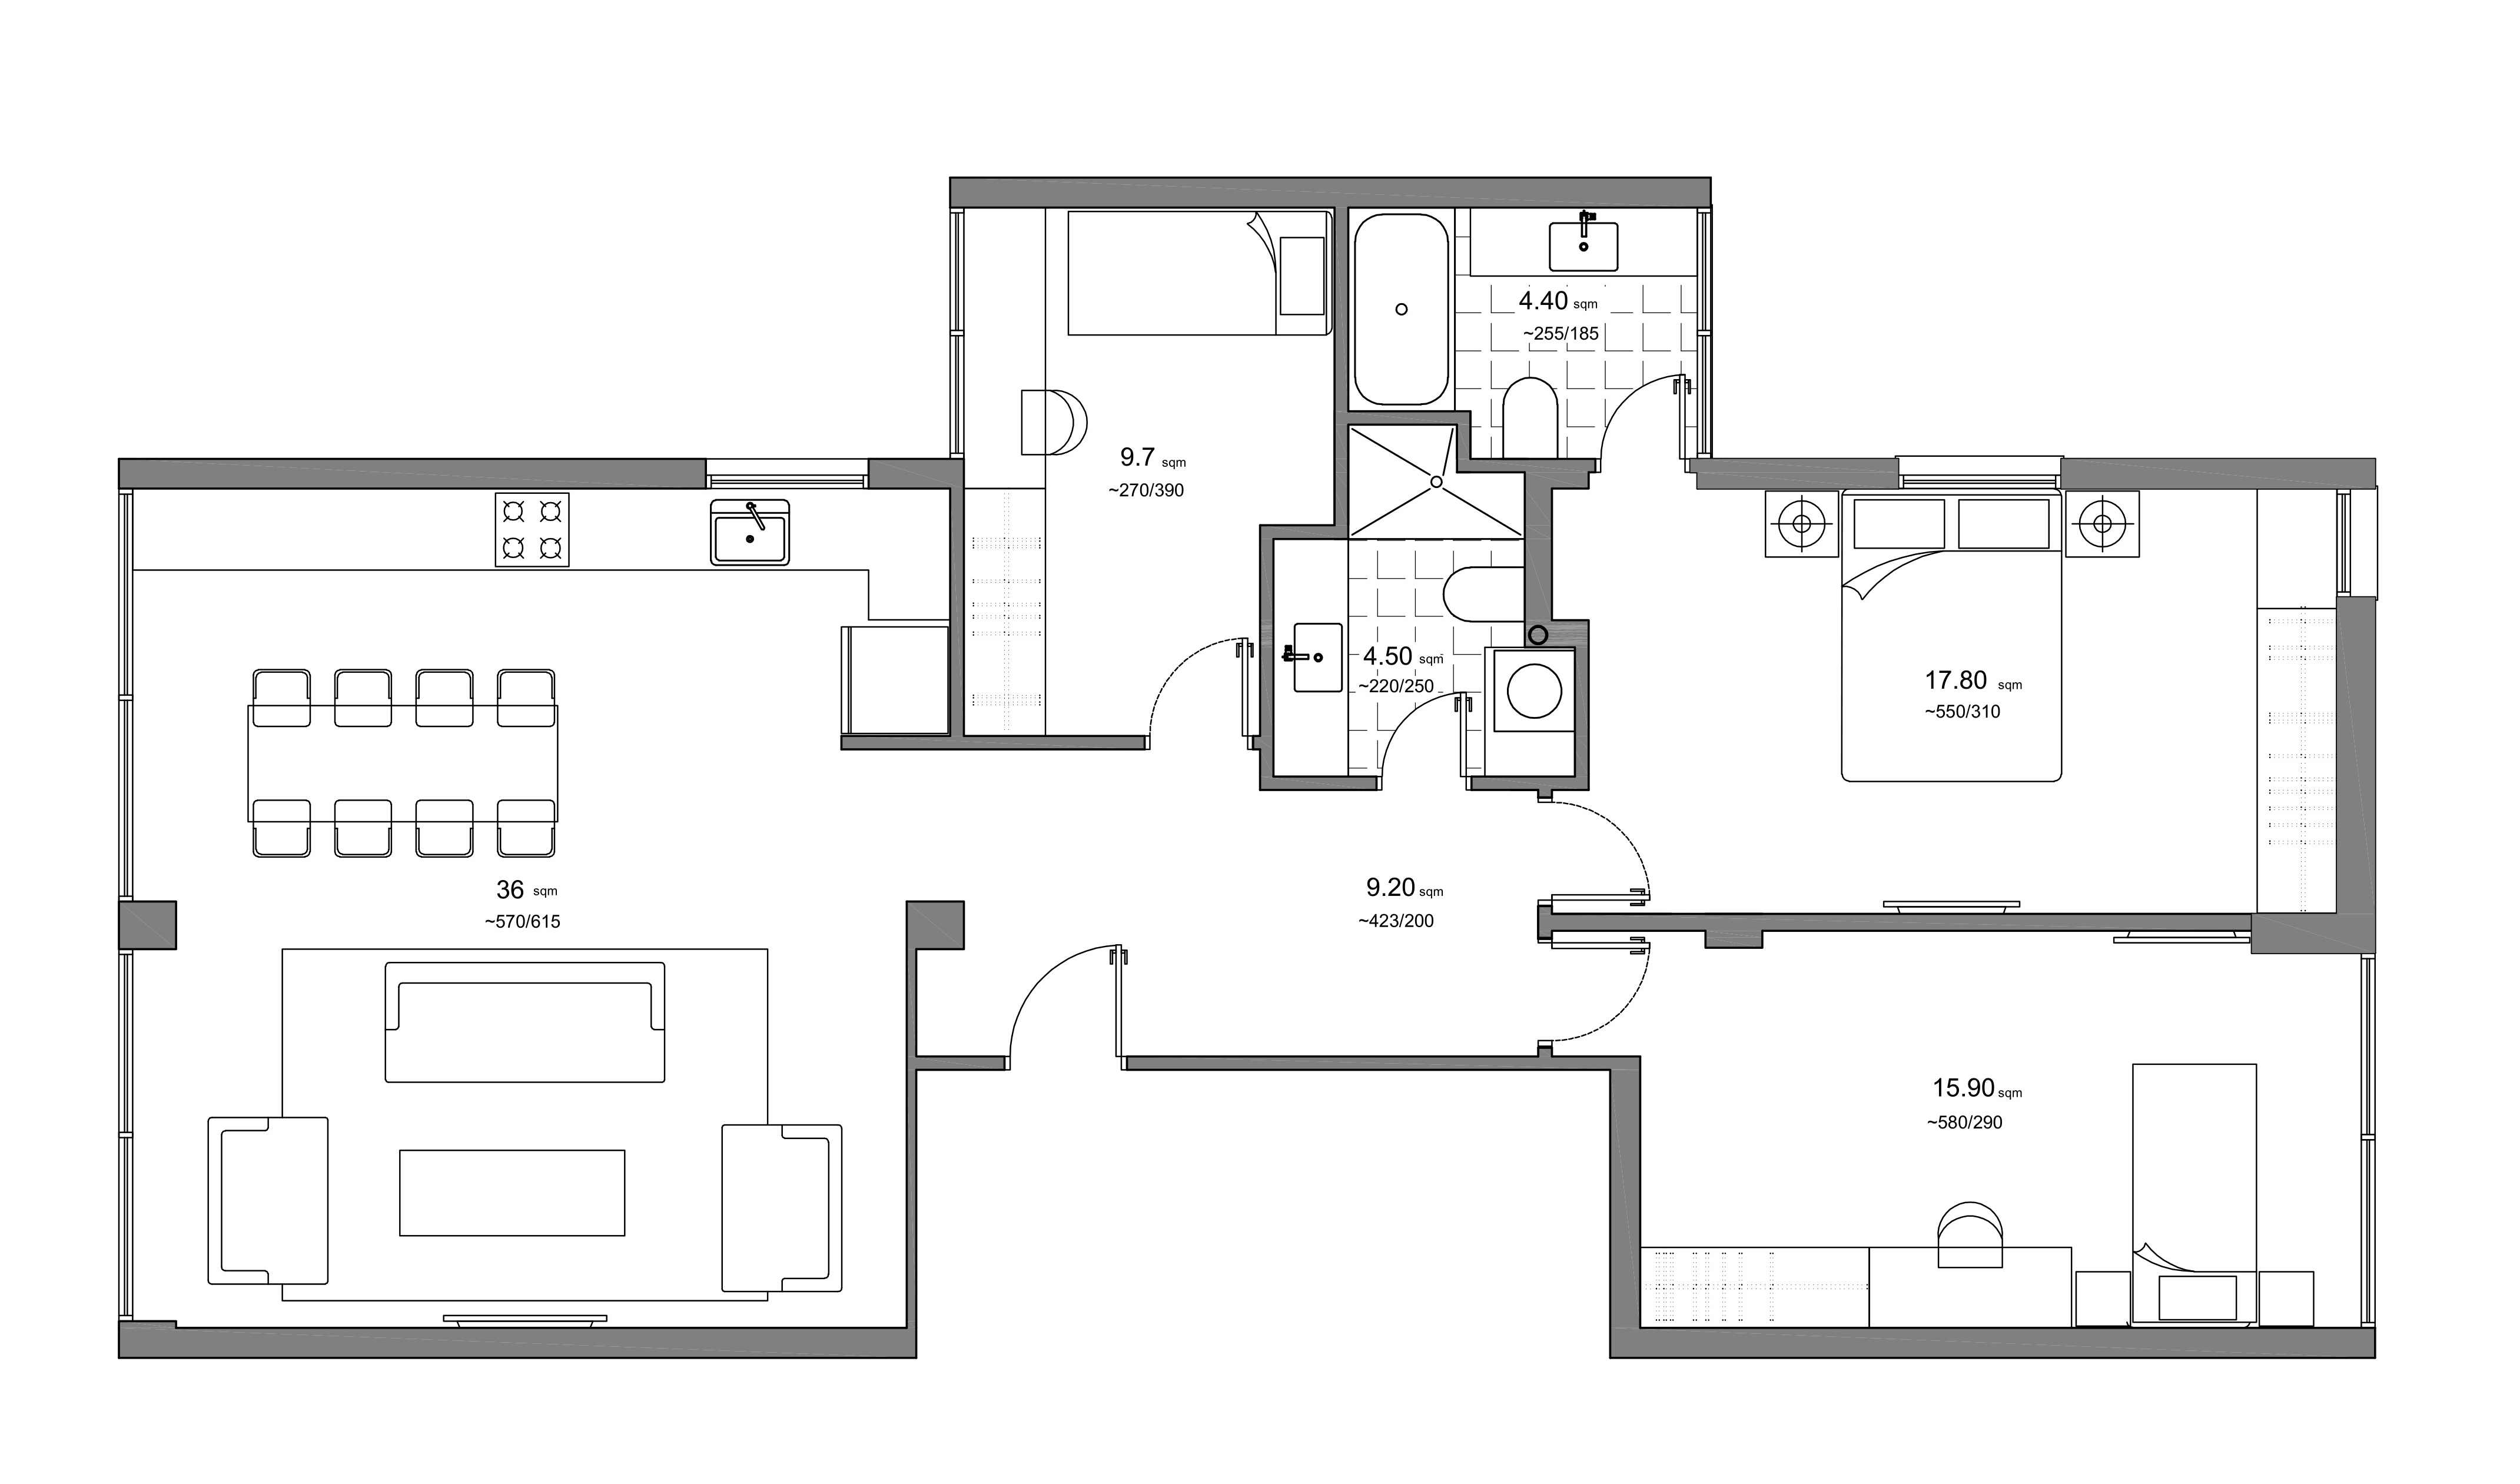door: (996, 933, 1136, 1048), (1132, 632, 1256, 733), (1554, 797, 1664, 906), (1554, 935, 1664, 1044), (1369, 684, 1476, 770)
wall: (117, 1325, 915, 1357), (1609, 1329, 2373, 1360), (950, 177, 1713, 207), (117, 458, 706, 491)
window: (117, 949, 134, 1323), (118, 488, 134, 903), (2361, 954, 2375, 1329), (705, 458, 871, 489), (2335, 489, 2379, 599), (1900, 456, 2061, 486), (1697, 207, 1711, 459), (948, 207, 962, 458)
